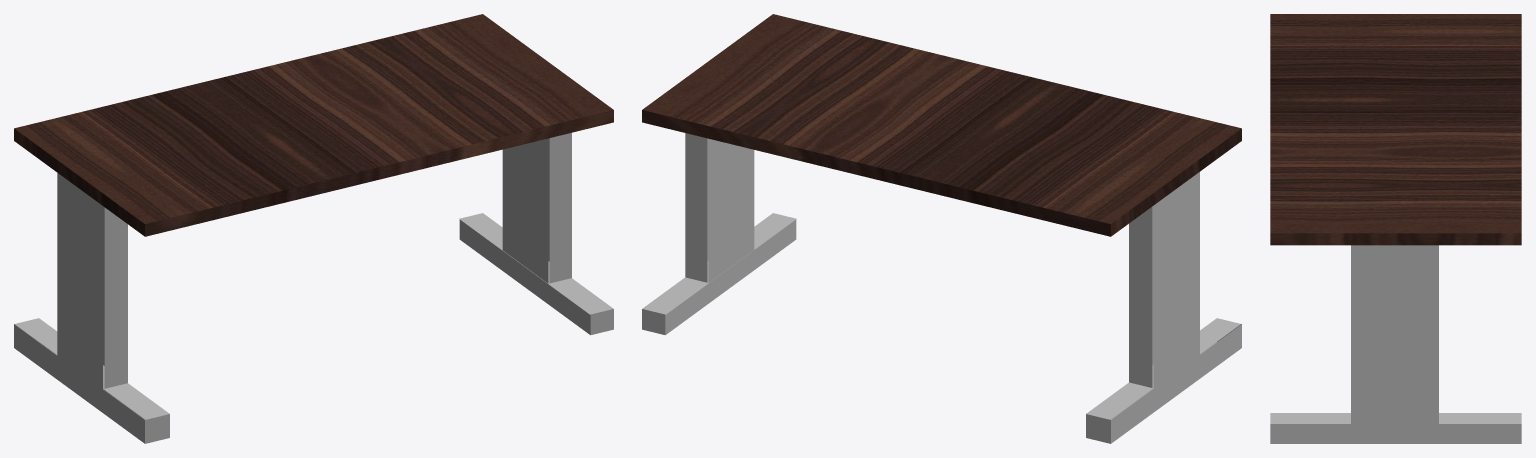
The model's file is Mesa.fbx.
3 views of the same model, side by side, from view 1: azimuth 30°, elevation 25°; view 2: azimuth 150°, elevation 25°; view 3: azimuth 270°, elevation 25° (orthographic). The views are drawn at different scales.
Visible parts, largest first — view 1: pCube1; view 2: pCube1; view 3: pCube1.
Boxes of the visible parts, bbox=[...] form: pCube1: bbox=[14, 14, 613, 443]; pCube1: bbox=[642, 14, 1241, 443]; pCube1: bbox=[1270, 14, 1521, 443].
Size of the model in its own units: 7.82 by 3.5 by 3.78.
4 materials, 1 textured.
